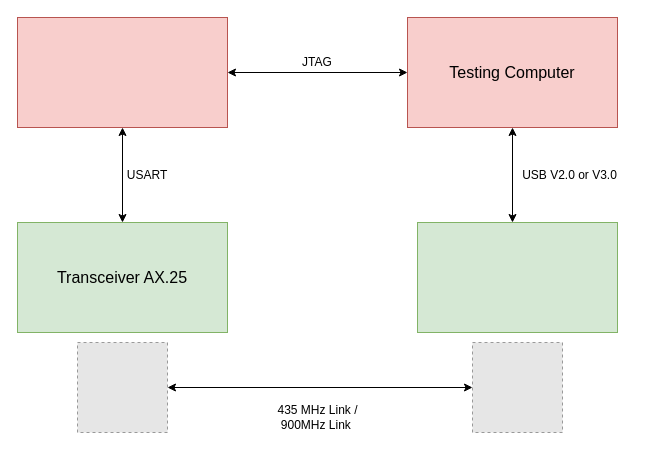
The diagram is 645 pixels wide and 460 high, and some of its shapes have lost their labels. Grey dashed boxes stand in for pictures. The centre of each missing label's shape, as x and y in pixels:
"CubeSat / FlatSat" goes at pixel 122 72.
"SDR Transceiver" goes at pixel 517 277.
